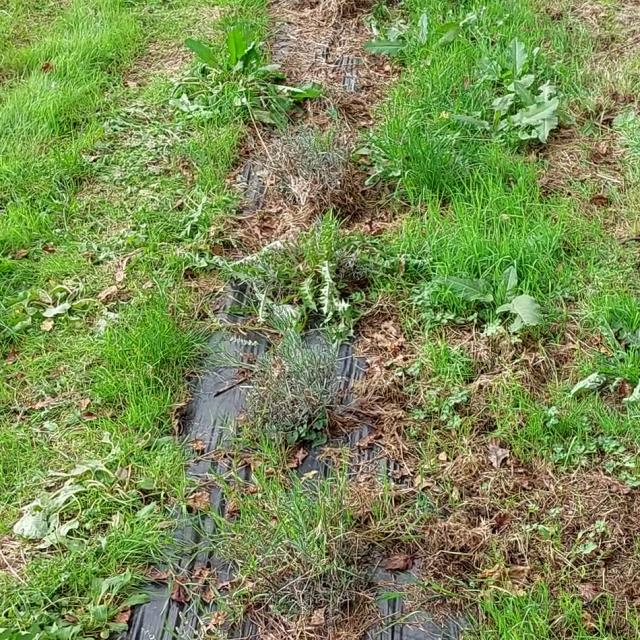organic waste: (176, 19, 308, 124), (435, 246, 553, 346), (13, 459, 124, 560), (371, 4, 477, 73), (16, 270, 108, 347), (492, 78, 566, 150), (470, 32, 553, 90), (455, 81, 521, 138)
